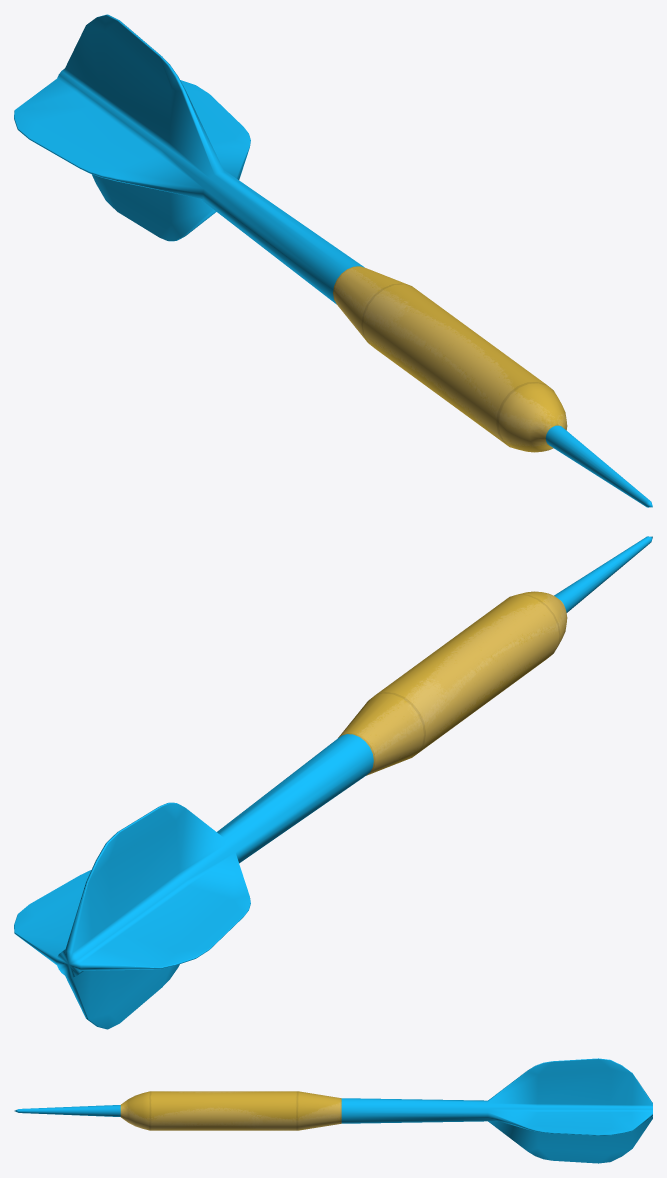
The model's file is Dart_v01.fbx.
The picture shows the model from 3 angles, top to bottom: view 1: azimuth 30°, elevation 25°; view 2: azimuth 150°, elevation 25°; view 3: azimuth 270°, elevation 25°; orthographic projection. The views are drawn at different scales.
Parts seen in each view (by area): view 1: Dart; view 2: Dart; view 3: Dart.
Boxes of the visible parts, x1,y1,x2,y2 form: Dart: [14, 14, 652, 507]; Dart: [14, 536, 652, 1029]; Dart: [14, 1058, 652, 1163].
Bounding box in the file's own units: 2.87 × 2.9 × 16.01.
